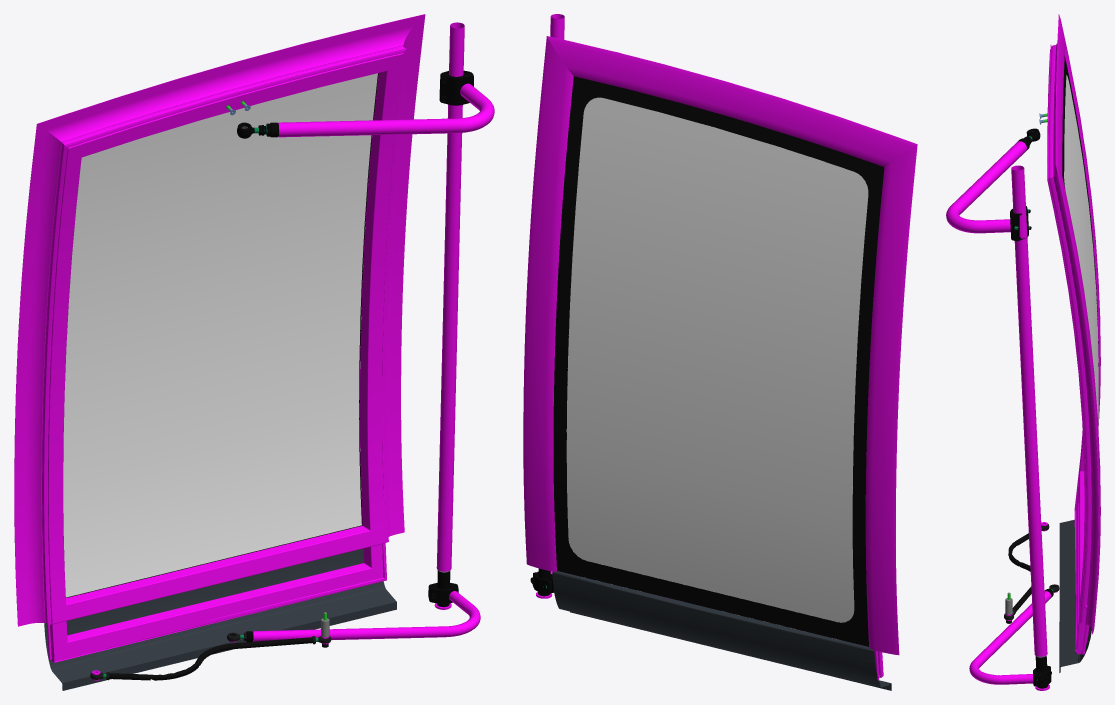
File: 241203_CAB_Door.fbx
3 views of the same model, side by side, from view 1: azimuth 30°, elevation 25°; view 2: azimuth 150°, elevation 25°; view 3: azimuth 270°, elevation 25° (orthographic). The views are drawn at different scales.
Parts seen in each view (by area): view 1: Tür, Unterkante, Tür_Stange, Gestände_oben, Gestänge_unten-2, Gestänge_unten; view 2: Tür, Unterkante; view 3: Tür, Tür_Stange, Gestände_oben, Unterkante, Gestänge_unten-2, Gestänge_unten.
Boxes of the visible parts, left/top/right/bottom form: Tür: left=14, top=14, right=425, bottom=662; Unterkante: left=44, top=548, right=396, bottom=690; Tür_Stange: left=434, top=22, right=464, bottom=609; Gestände_oben: left=237, top=70, right=494, bottom=138; Gestänge_unten-2: left=227, top=582, right=480, bottom=642; Gestänge_unten: left=90, top=612, right=331, bottom=680; Tür: left=523, top=36, right=917, bottom=680; Unterkante: left=552, top=571, right=891, bottom=690; Tür: left=1039, top=14, right=1100, bottom=654; Tür_Stange: left=1011, top=165, right=1049, bottom=690; Gestände_oben: left=946, top=128, right=1040, bottom=241; Unterkante: left=1059, top=519, right=1091, bottom=672; Gestänge_unten-2: left=969, top=584, right=1059, bottom=687; Gestänge_unten: left=1004, top=522, right=1049, bottom=623.
Size of the model in its own units: 113 by 155 by 41.7.
